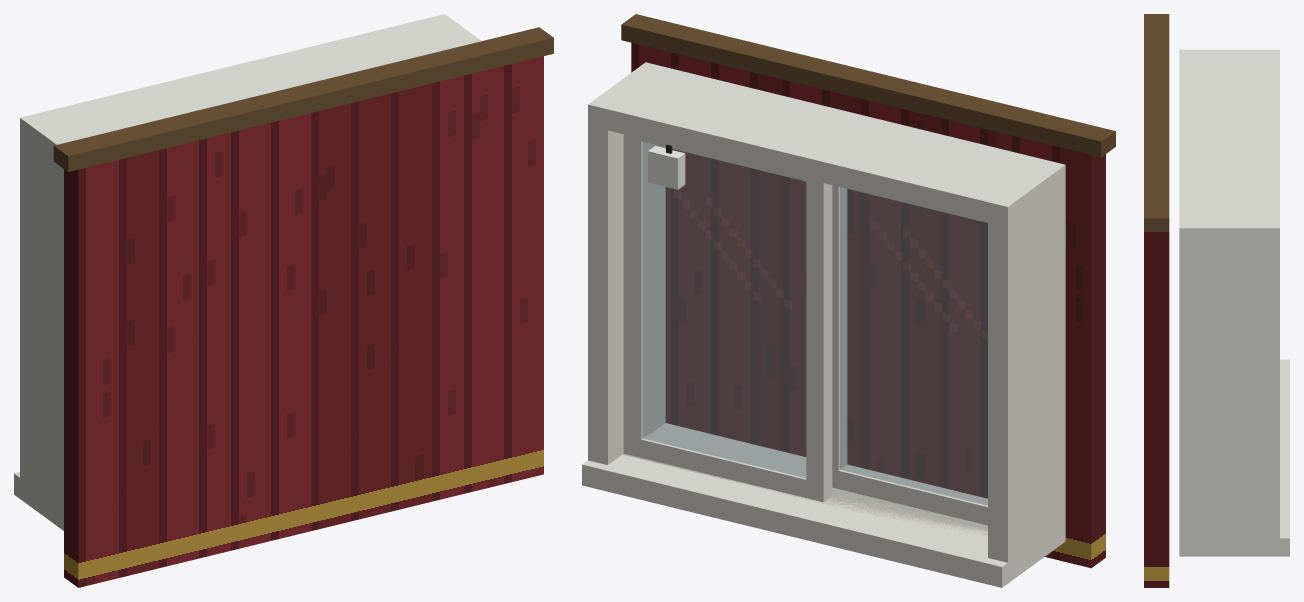
Rendered from t_curtains_alarm.glb.
3 views of the same model, side by side, from view 1: azimuth 30°, elevation 25°; view 2: azimuth 150°, elevation 25°; view 3: azimuth 270°, elevation 25° (orthographic). The views are drawn at different scales.
Parts seen in each view (by area): view 1: block_curtain-1, block_curtain1, block_lintel, block_stile-1, block_rod, block_sill; view 2: block_curtain-1, block_fixed-glass, block_curtain1, block_slider-glass, block_lintel, block_stile-1, block_sill, block_stile1, block_rod, block_fixed-l, block_fixed-r, block_fixed-bottom (+5 smaller); view 3: block_stile1, block_lintel, block_curtain1, block_rod, block_sill, block_stile-1.
Part boxes in pixels (<box>): block_curtain-1: <box>64,113,311,587</box>; block_curtain1: <box>311,56,543,530</box>; block_lintel: <box>20,14,481,170</box>; block_stile-1: <box>20,114,73,525</box>; block_rod: <box>53,27,553,171</box>; block_sill: <box>14,472,63,530</box>; block_curtain-1: <box>861,99,1105,568</box>; block_fixed-glass: <box>642,142,806,477</box>; block_curtain1: <box>631,42,861,467</box>; block_slider-glass: <box>840,187,987,505</box>; block_lintel: <box>588,62,1065,227</box>; block_stile-1: <box>988,162,1065,579</box>; block_sill: <box>582,423,1065,587</box>; block_stile1: <box>588,63,665,464</box>; block_rod: <box>621,14,1115,157</box>; block_fixed-l: <box>806,179,832,501</box>; block_fixed-r: <box>623,137,649,455</box>; block_fixed-bottom: <box>623,433,832,502</box>; block_stile1: <box>1179,219,1279,556</box>; block_lintel: <box>1179,49,1279,246</box>; block_curtain1: <box>1144,232,1169,587</box>; block_rod: <box>1144,14,1169,231</box>; block_sill: <box>1179,359,1289,556</box>; block_stile-1: <box>1179,49,1279,57</box>.
Size of the model in its own units: 0.96 by 0.82 by 0.29.
2 materials, 2 textured.
